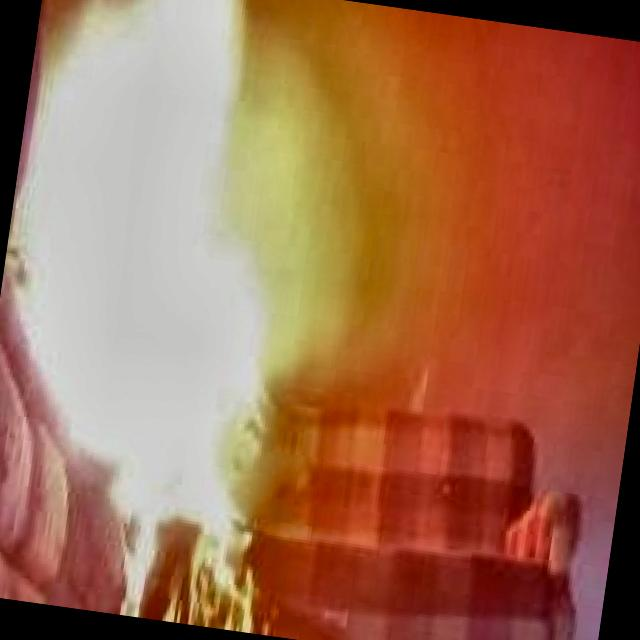fire: (0, 0, 387, 614)
